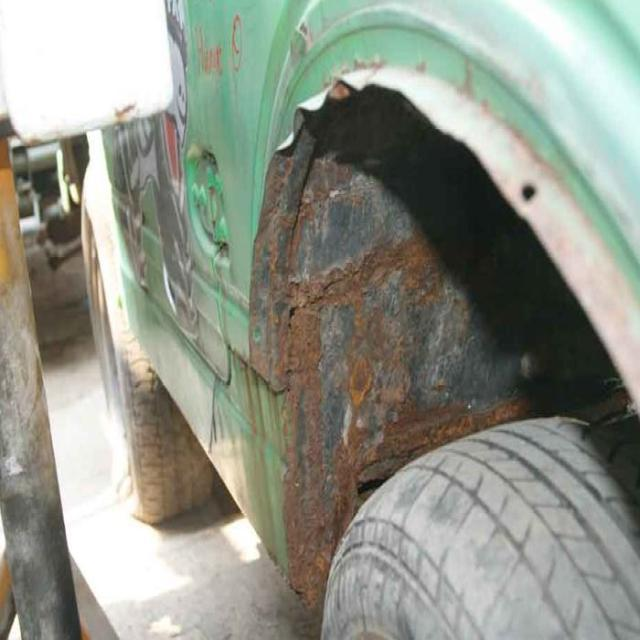corrosion: (285, 278, 326, 592), (333, 259, 460, 306), (257, 160, 280, 359), (370, 405, 468, 448), (303, 153, 355, 194), (339, 446, 356, 519), (348, 357, 367, 406), (479, 399, 529, 416)
